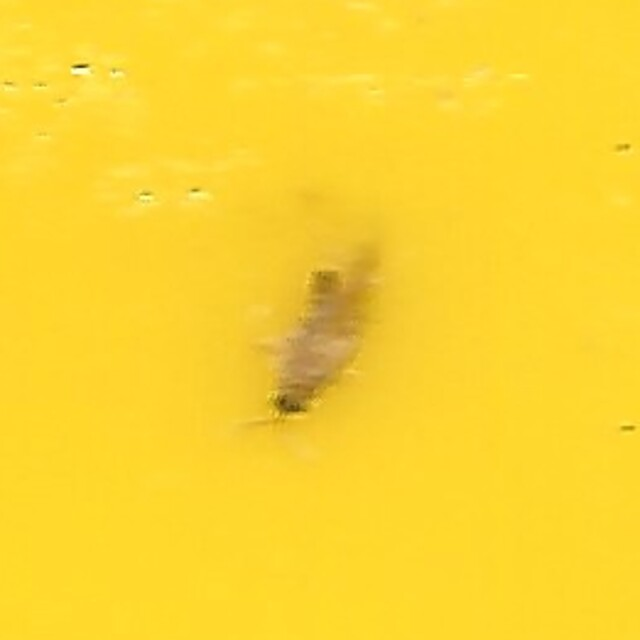Trichoptera: (245, 206, 395, 434)
